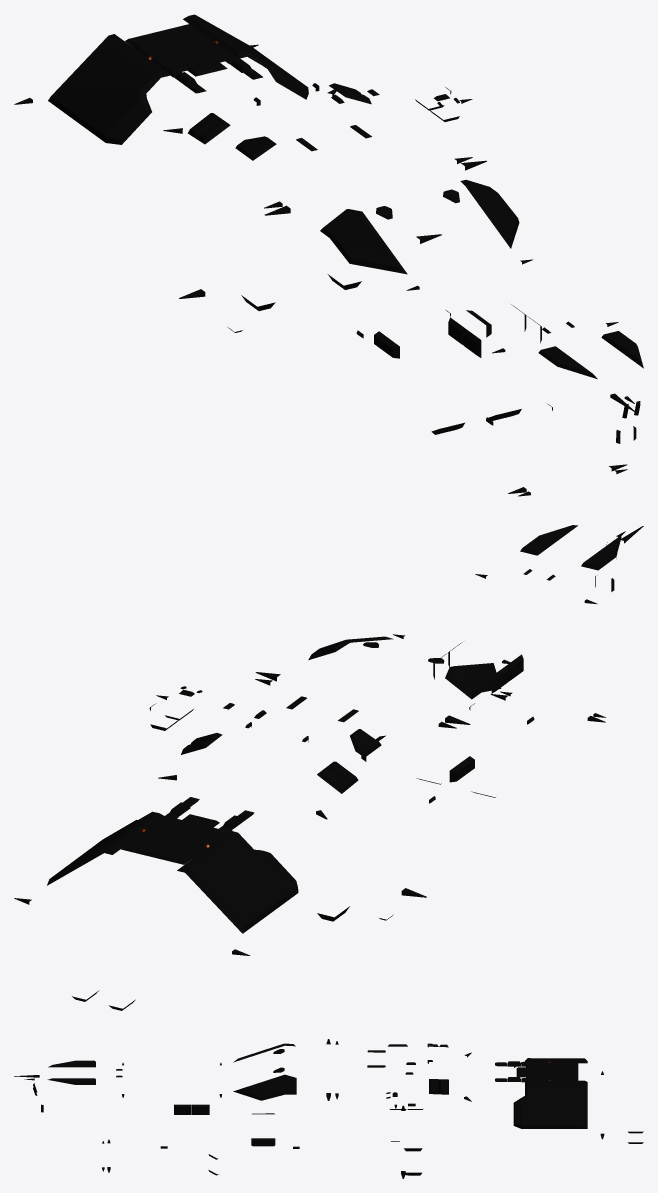
Rendered from hgn_cd_dest_01_t2.glb.
The picture shows the model from 3 angles, top to bottom: view 1: azimuth 30°, elevation 25°; view 2: azimuth 150°, elevation 25°; view 3: azimuth 270°, elevation 25°; orthographic projection. The views are drawn at different scales.
Parts seen in each view (by area): view 1: hgn_destroyer_01_t2_LOD0; view 2: hgn_destroyer_01_t2_LOD0; view 3: hgn_destroyer_01_t2_LOD0.
Boxes of the visible parts, x1=… form: hgn_destroyer_01_t2_LOD0: x1=14, y1=14, x2=643, y2=496; hgn_destroyer_01_t2_LOD0: x1=14, y1=525, x2=643, y2=1010; hgn_destroyer_01_t2_LOD0: x1=14, y1=1039, x2=643, y2=1178.
Size of what is drawn, in the model's own units: 2.21 by 1.45 by 7.33.
Materials: 1 (1 with a texture image).
